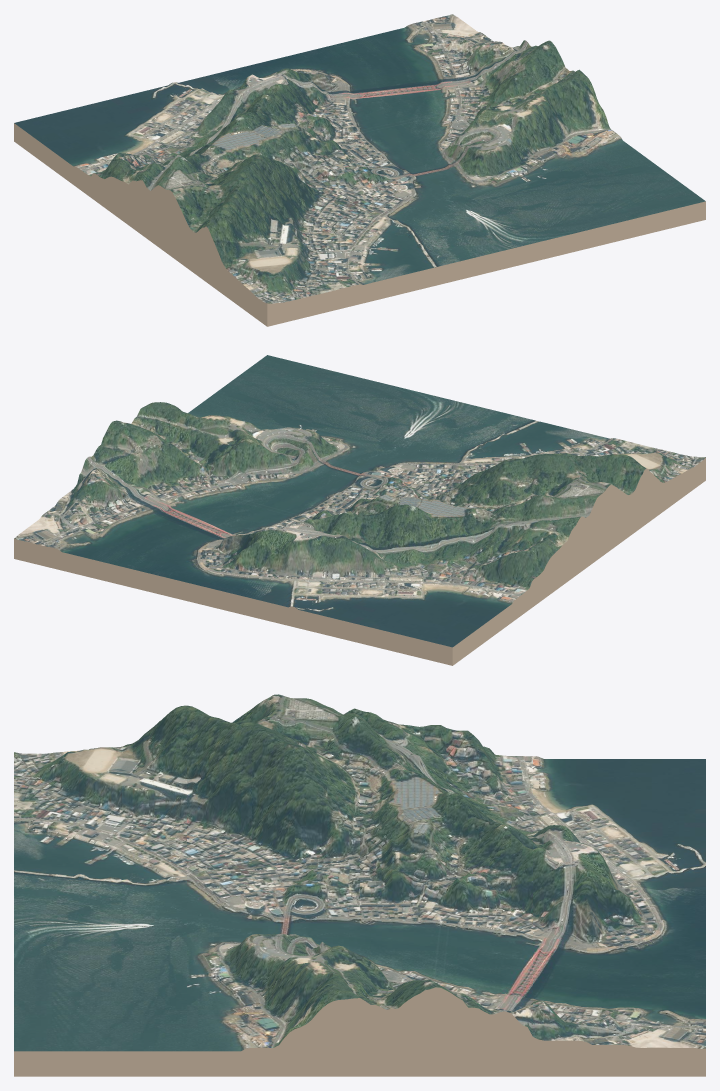
Rendered from facility-033.glb.
3 views of the same model, one above another, from view 1: azimuth 30°, elevation 25°; view 2: azimuth 150°, elevation 25°; view 3: azimuth 270°, elevation 25° (orthographic). The views are drawn at different scales.
Bounding box in the file's own units: 0.6 × 0.0981 × 0.6.
17 materials, 16 textured.
